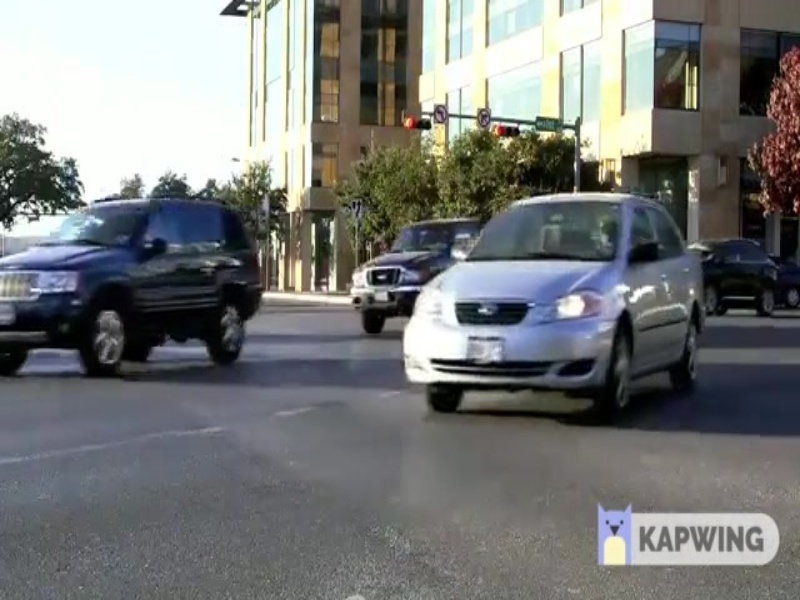car: (383, 193, 711, 419), (1, 177, 274, 389)
